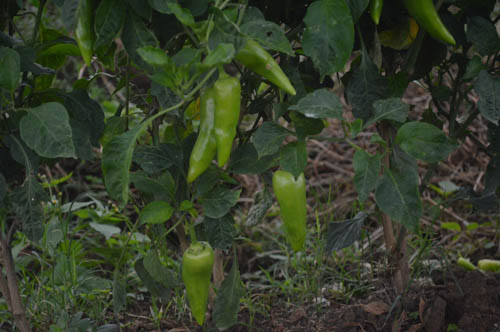ChiliPepper: (268, 173, 310, 249), (186, 93, 222, 181), (238, 41, 299, 90), (215, 78, 244, 164), (183, 242, 213, 324), (71, 7, 96, 62)
